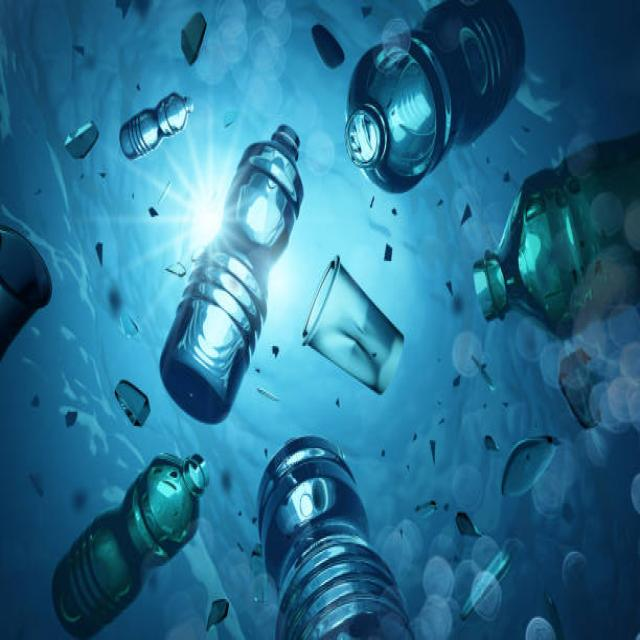plastic: (170, 126, 296, 398)
